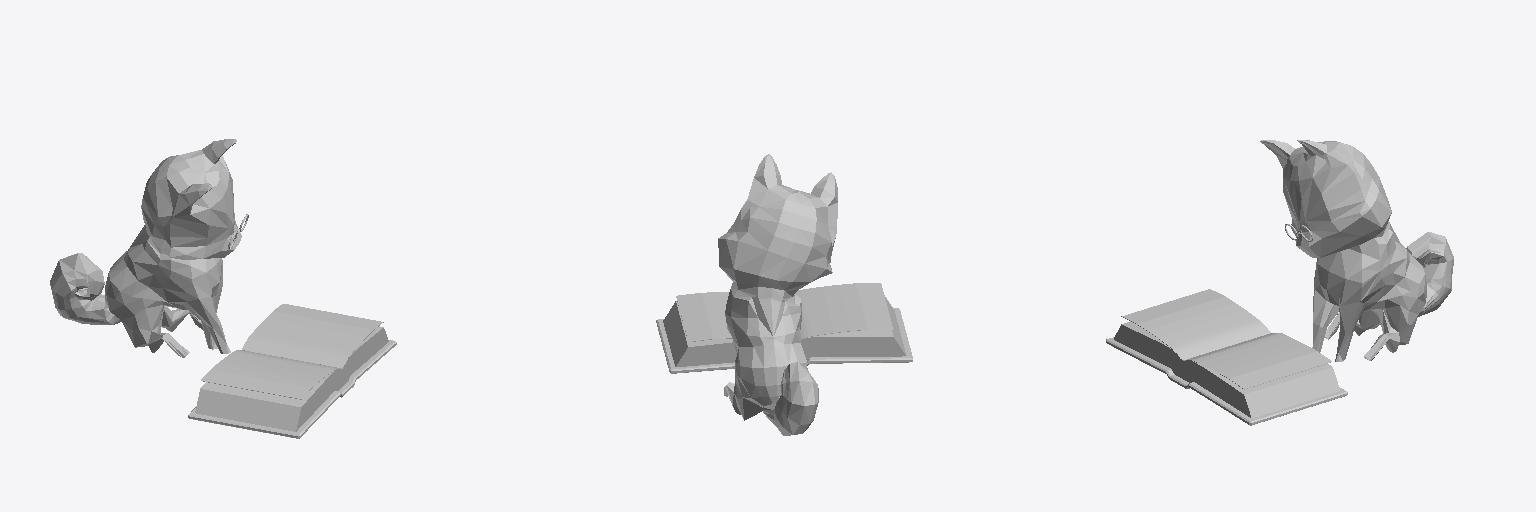
The model's file is book_frame20.obj.
The picture shows the model from 3 angles: view 1: azimuth 30°, elevation 25°; view 2: azimuth 150°, elevation 25°; view 3: azimuth 270°, elevation 25°; orthographic projection.
Visible parts, largest first — view 1: StidyGlasses_Computer_Sitting:Sitting:newRigging:BodzL1, polySurface1; view 2: StidyGlasses_Computer_Sitting:Sitting:newRigging:BodzL1, polySurface1; view 3: StidyGlasses_Computer_Sitting:Sitting:newRigging:BodzL1, polySurface1.
Part boxes in pixels (x1,y1,x2,y2): StidyGlasses_Computer_Sitting:Sitting:newRigging:BodzL1: (50,139,241,357); polySurface1: (188,304,396,438); StidyGlasses_Computer_Sitting:Sitting:newRigging:BodzL1: (718,154,837,435); polySurface1: (656,283,912,373); StidyGlasses_Computer_Sitting:Sitting:newRigging:BodzL1: (1260,140,1453,361); polySurface1: (1106,289,1347,425).
Bounding box in the file's own units: 9.18 × 7.72 × 11.01.